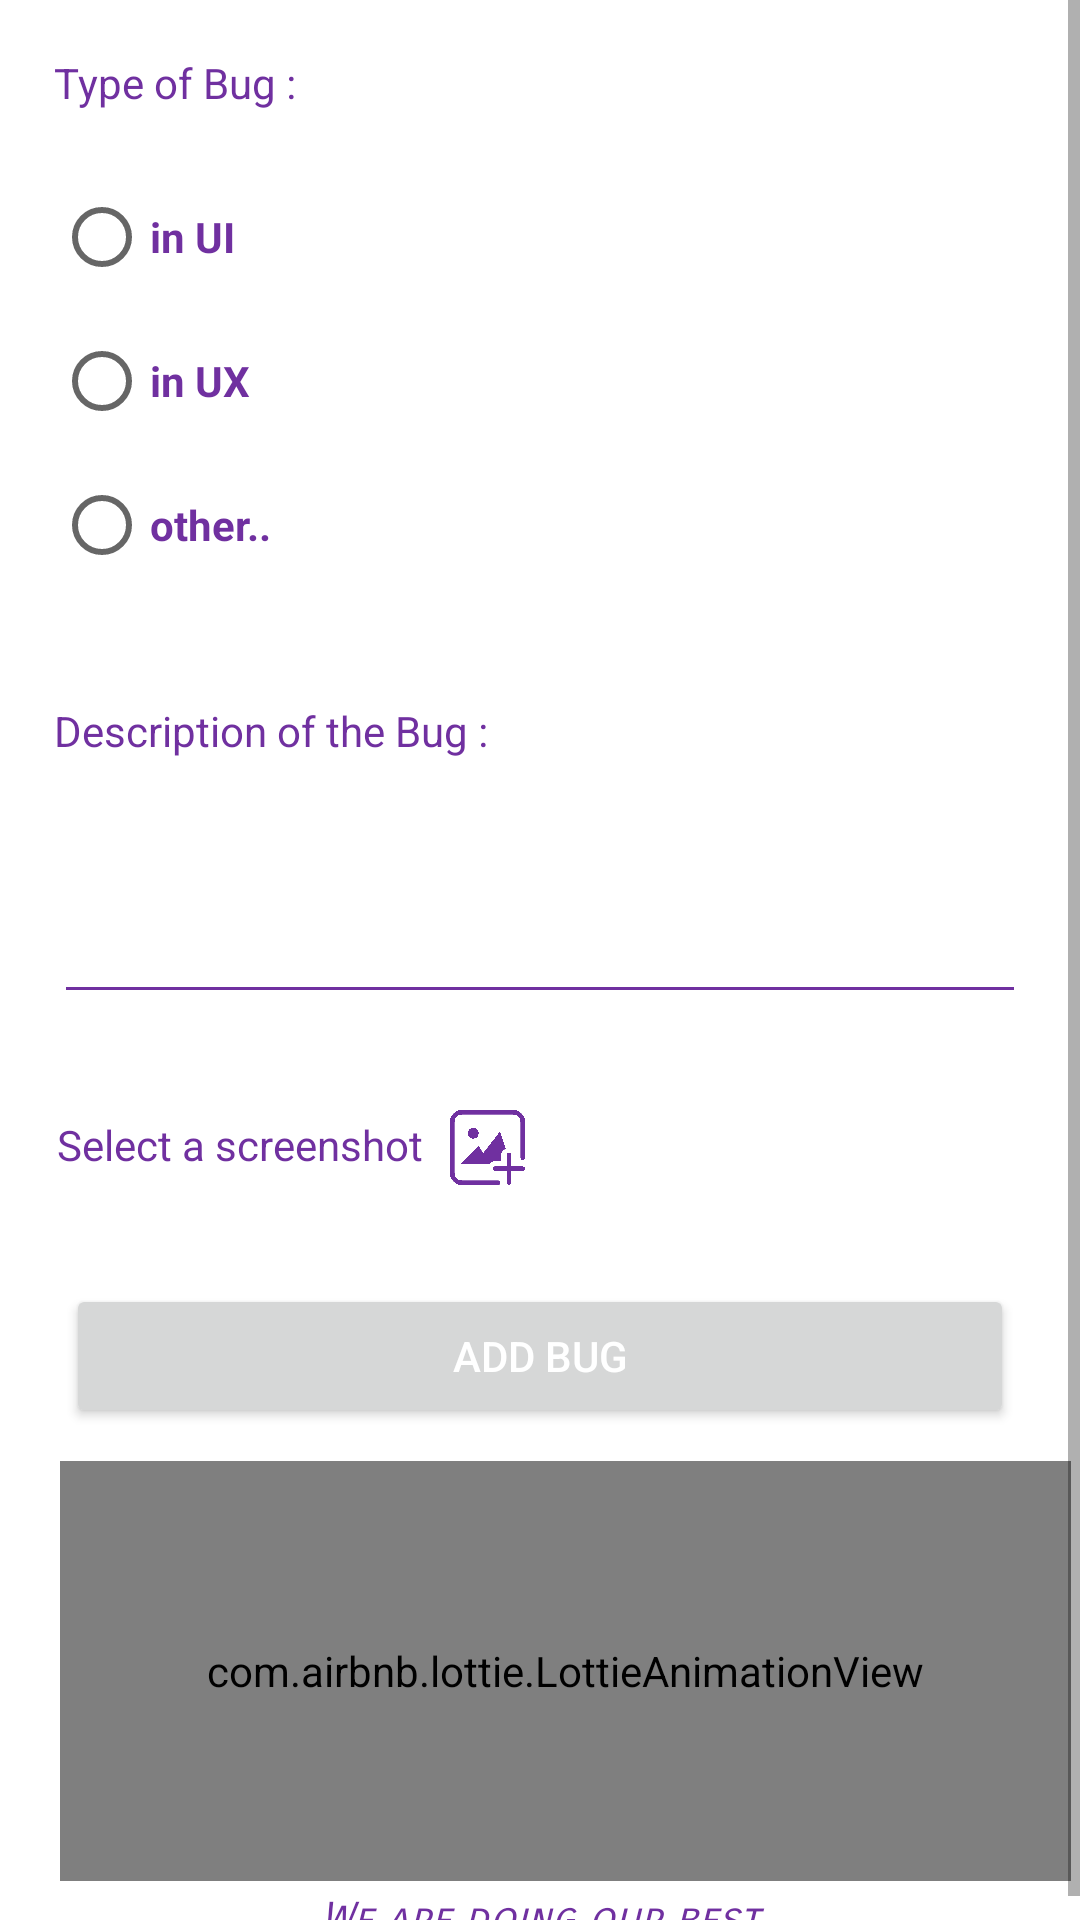

Screen size 1080 × 1920. Icon name, then its center in pixels as [x,y]:
upload: [487,1147]
